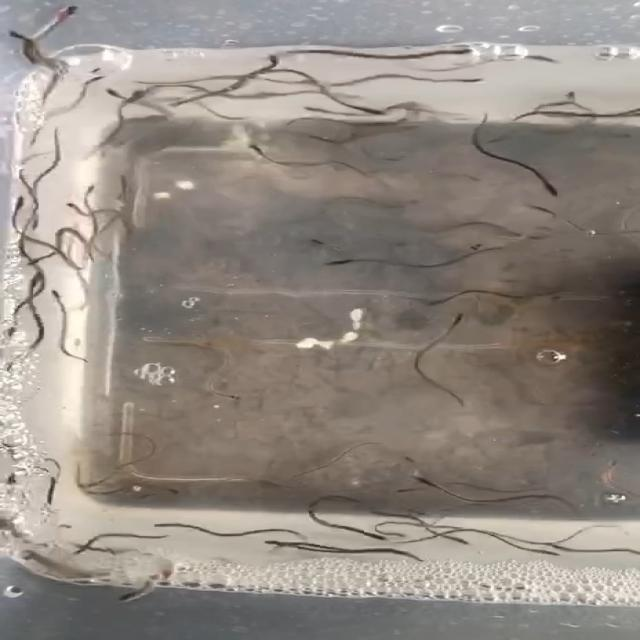inactive_glass_eel: (318, 248, 400, 288), (55, 52, 110, 91), (276, 230, 343, 256), (454, 68, 506, 99), (250, 49, 298, 79), (80, 78, 129, 107), (501, 224, 555, 249), (521, 169, 565, 199), (44, 285, 80, 321), (433, 302, 473, 332), (385, 478, 439, 500), (436, 38, 485, 62), (382, 470, 437, 490), (146, 474, 195, 496), (600, 451, 628, 489), (45, 4, 90, 26), (245, 140, 281, 166), (73, 175, 109, 199), (204, 386, 252, 404), (291, 99, 329, 121), (6, 192, 36, 219), (149, 522, 196, 538), (366, 523, 396, 548), (115, 587, 157, 604), (61, 198, 96, 218), (252, 536, 295, 550)
